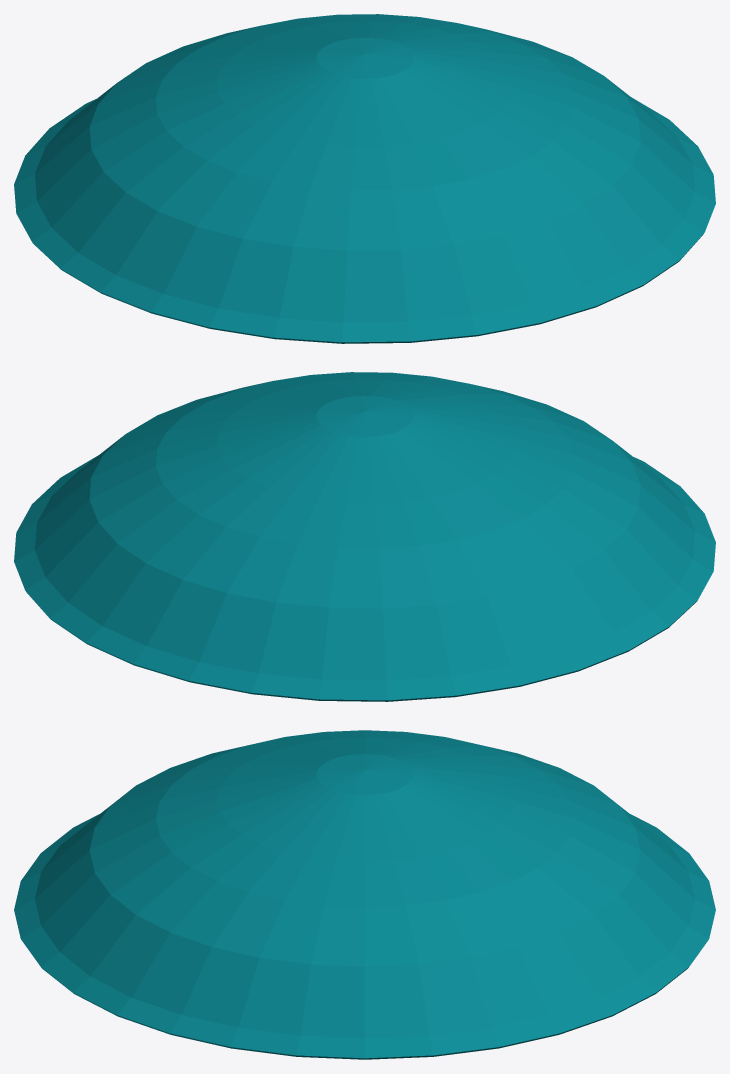
File: Scrap07.fbx
The picture shows the model from 3 angles, top to bottom: view 1: azimuth 30°, elevation 25°; view 2: azimuth 150°, elevation 25°; view 3: azimuth 270°, elevation 25°; orthographic projection.
Parts seen in each view (by area): view 1: Sphere; view 2: Sphere; view 3: Sphere.
Part boxes in pixels (bbox=[...]): Sphere: bbox=[14, 14, 715, 343]; Sphere: bbox=[14, 372, 715, 701]; Sphere: bbox=[14, 730, 715, 1059].
Bounding box in the file's own units: 282 × 62.75 × 282.
